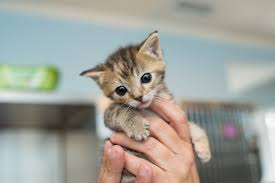cat: (79, 27, 183, 107)
